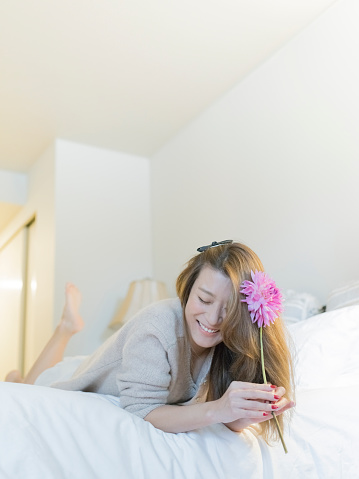deitado: (87, 244, 284, 467)
